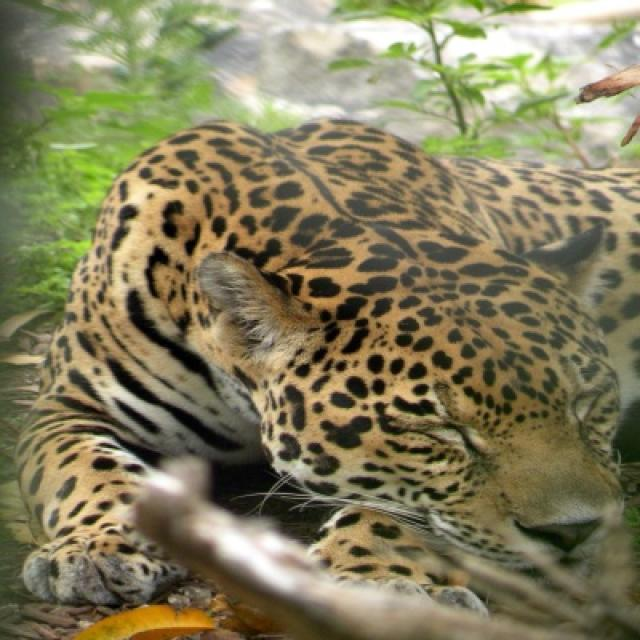Jaguar: (16, 118, 638, 638)
